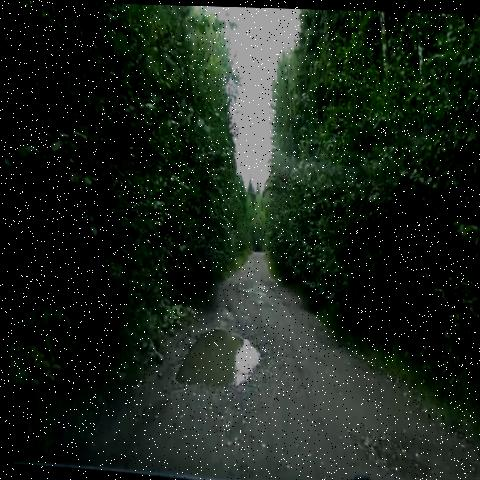pothole: (162, 309, 266, 407), (350, 420, 444, 480), (238, 280, 287, 325)
